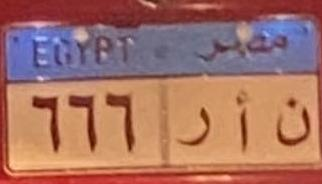6: (66, 87, 101, 156), (103, 89, 139, 152), (30, 93, 64, 156)
alif: (233, 90, 255, 154)
noon: (270, 89, 317, 149)
raa: (173, 102, 213, 153)
